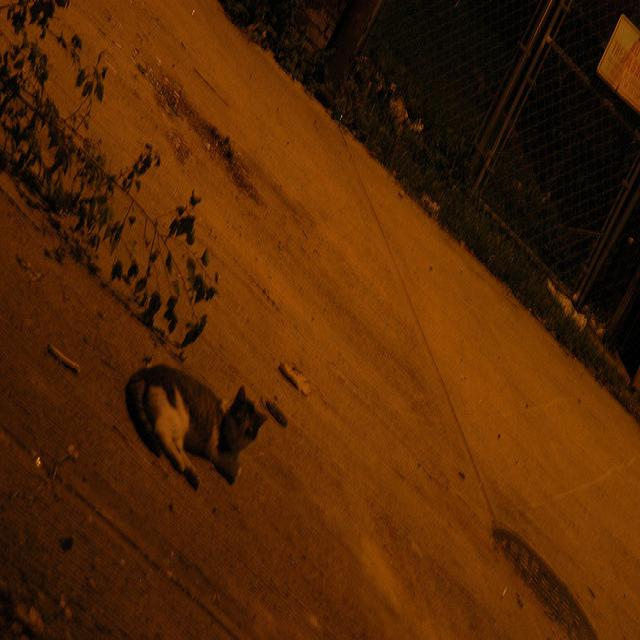Cat: (133, 347, 259, 511)
